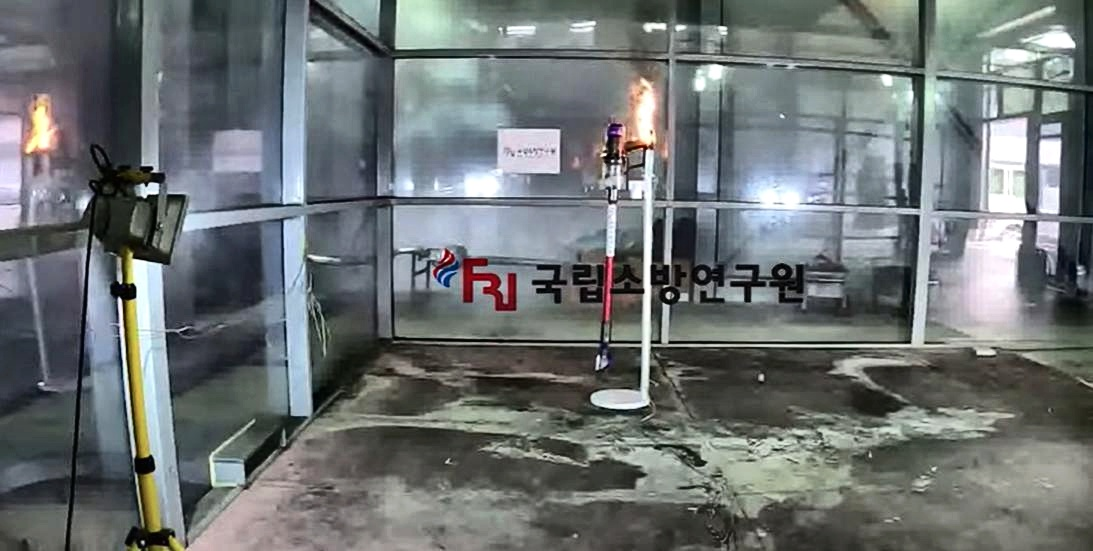fire: (617, 59, 692, 170), (17, 82, 77, 171)
